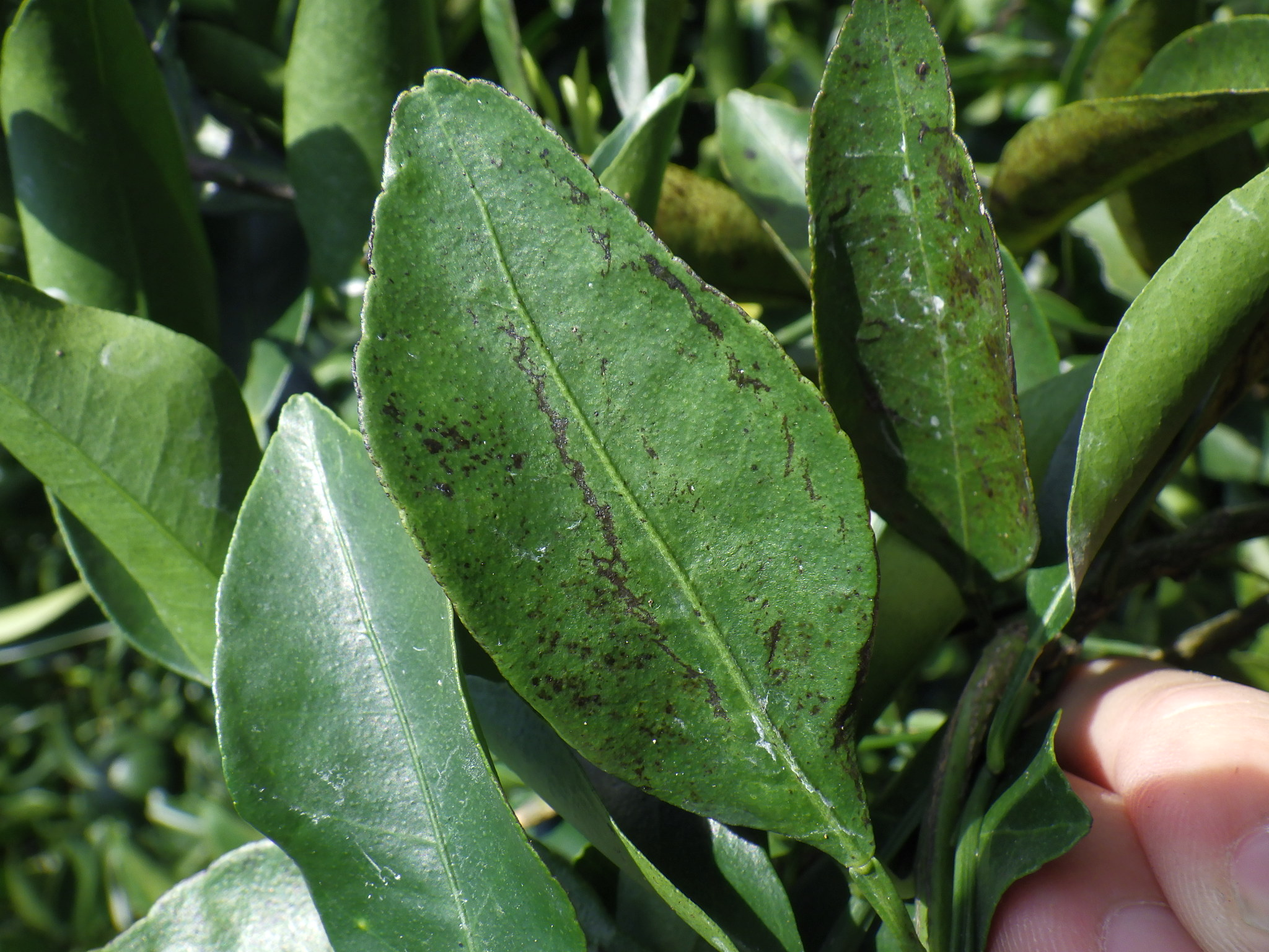Thrips_Damage: (377, 255, 782, 767)
